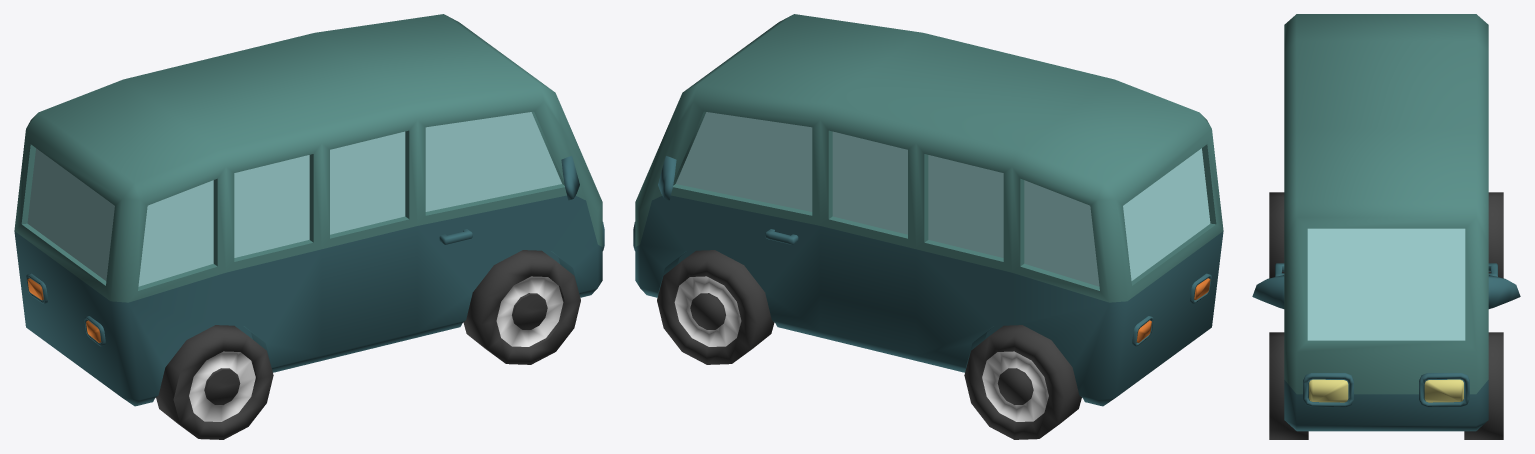
Rendered from Car.fbx.
The picture shows the model from 3 angles, left to right: view 1: azimuth 30°, elevation 25°; view 2: azimuth 150°, elevation 25°; view 3: azimuth 270°, elevation 25°; orthographic projection. The views are drawn at different scales.
Visible parts, largest first — view 1: Cube.032, Cylinder.020, Cylinder.021, Cube.036, Cube.033; view 2: Cube.032, Cylinder.020, Cylinder.021, Cube.036, Cube.033; view 3: Cube.032, Cylinder.020, Cube.034, Cylinder.021, Cube.033.
Part boxes in pixels (box(x1,y1,x2,y2)): Cube.032: box(14, 14, 602, 406); Cylinder.020: box(463, 250, 580, 364); Cylinder.021: box(156, 325, 273, 439); Cube.036: box(26, 273, 105, 346); Cube.033: box(561, 156, 579, 200); Cube.032: box(635, 14, 1223, 406); Cylinder.020: box(657, 250, 774, 364); Cylinder.021: box(964, 325, 1081, 439); Cube.036: box(1132, 273, 1211, 346); Cube.033: box(658, 156, 676, 200); Cube.032: box(1284, 14, 1488, 431); Cylinder.020: box(1269, 332, 1503, 439); Cube.034: box(1303, 373, 1469, 407); Cylinder.021: box(1269, 192, 1503, 278); Cube.033: box(1252, 275, 1520, 308).
Bounding box in the file's own units: 129 × 68.55 × 64.5.
